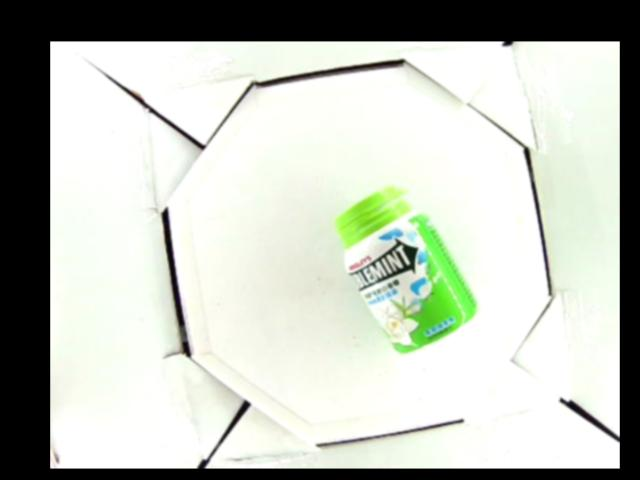Bottle: (335, 184, 477, 356)
